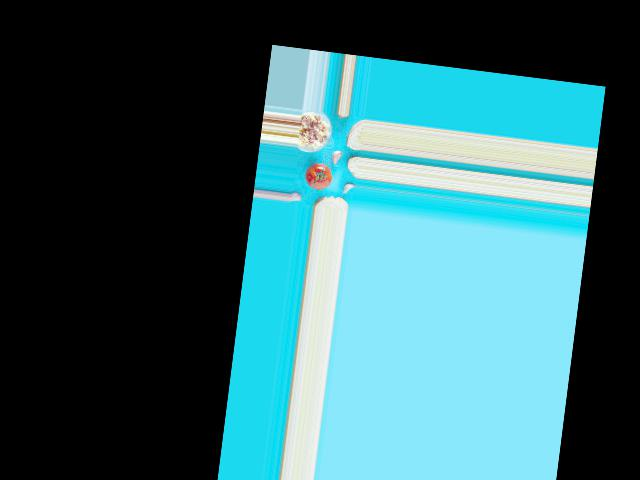tomato: (303, 162, 333, 191)
